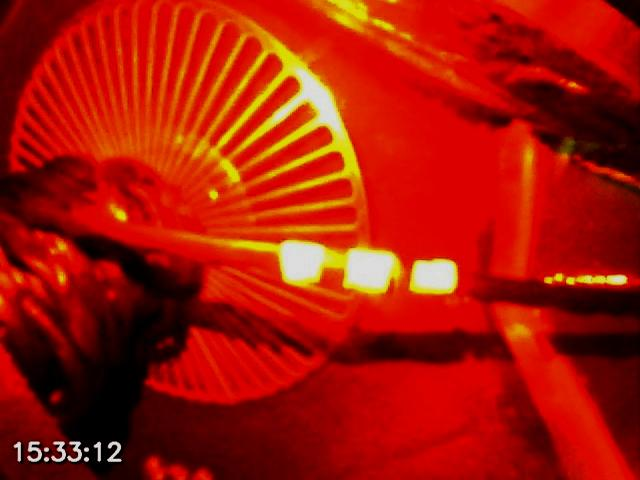white-dots: (276, 239, 460, 296)
